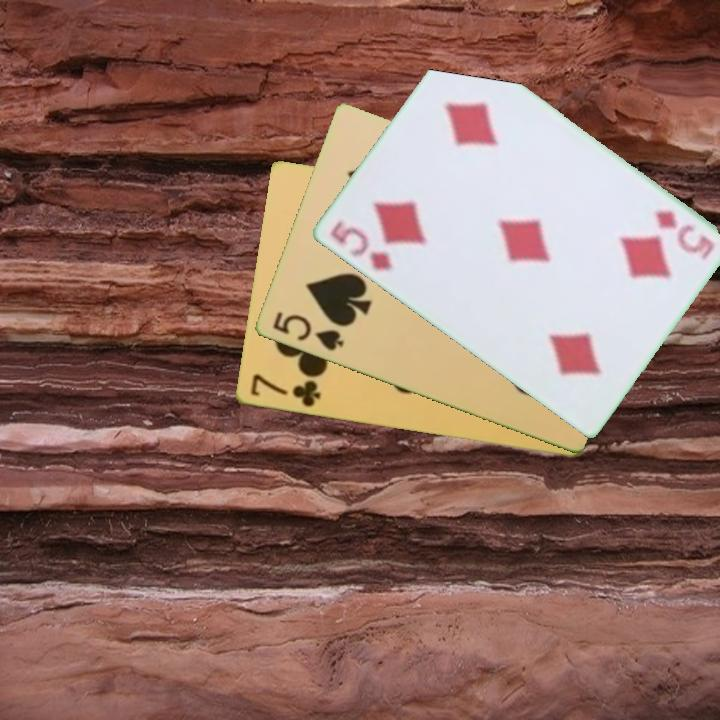5d: (326, 215, 395, 274), (649, 207, 717, 263)
5s: (269, 308, 347, 354)
7c: (246, 371, 323, 411)
